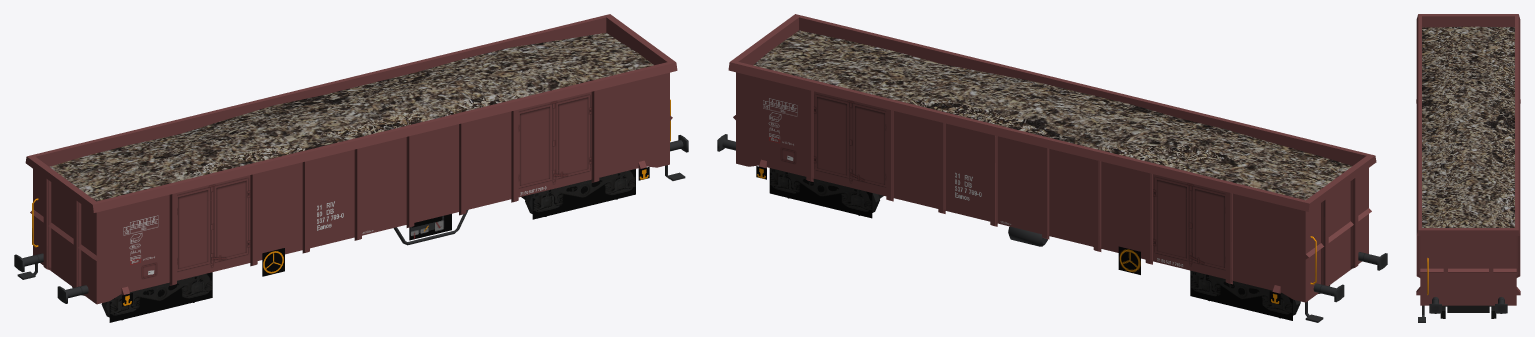
Rendered from eanos.glb.
3 views of the same model, side by side, from view 1: azimuth 30°, elevation 25°; view 2: azimuth 150°, elevation 25°; view 3: azimuth 270°, elevation 25° (orthographic). The views are drawn at different scales.
Visible parts, largest first — view 1: EanosMesh_Material.006_0; view 2: EanosMesh_Material.006_0; view 3: EanosMesh_Material.006_0.
Boxes of the visible parts, x1=… form: EanosMesh_Material.006_0: x1=14, y1=14, x2=688, y2=322; EanosMesh_Material.006_0: x1=717, y1=14, x2=1387, y2=322; EanosMesh_Material.006_0: x1=1416, y1=14, x2=1520, y2=322.
Bounding box in the file's own units: 15.74 × 3.37 × 3.01.
Materials: 1 (1 with a texture image).
